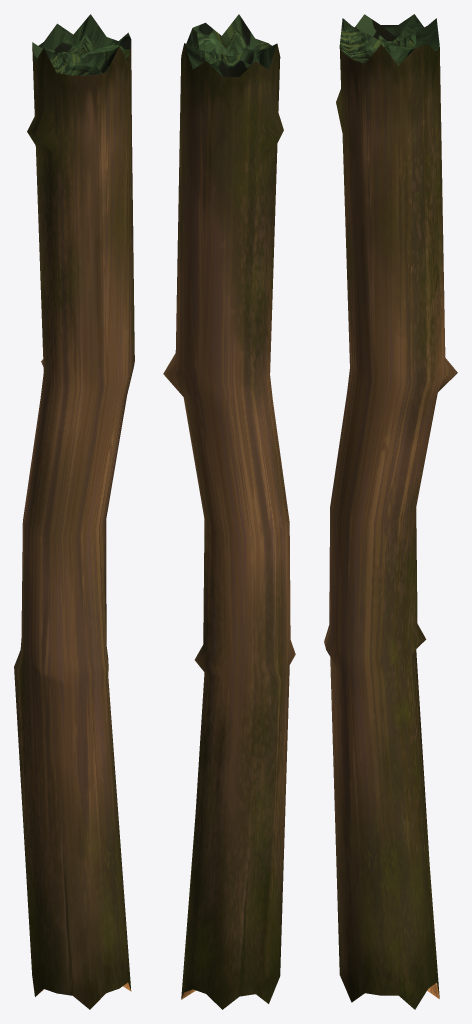
Rendered from Prop_Branch_1_Darline_m.fbx.
3 renders of one model, left to right at view 1: azimuth 30°, elevation 25°; view 2: azimuth 150°, elevation 25°; view 3: azimuth 330°, elevation 25°, orthographic.
Parts seen in each view (by area): view 1: Prop_Branch_1_Darline_m; view 2: Prop_Branch_1_Darline_m; view 3: Prop_Branch_1_Darline_m.
Part boxes in pixels (left/top/right/bottom): Prop_Branch_1_Darline_m: left=14, top=14, right=134, bottom=1009; Prop_Branch_1_Darline_m: left=163, top=14, right=295, bottom=1009; Prop_Branch_1_Darline_m: left=324, top=14, right=457, bottom=1009.
Bounding box in the file's own units: 61.27 × 510 × 47.21.
